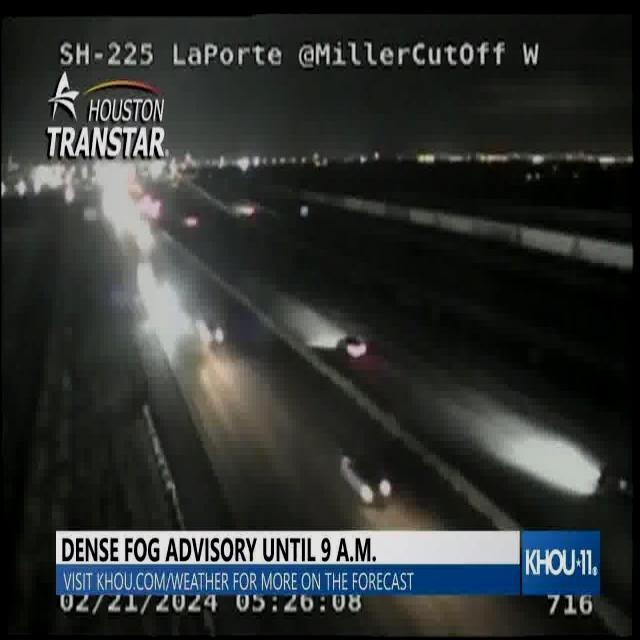Car: (312, 440, 412, 542), (318, 315, 398, 401), (188, 306, 232, 383)
